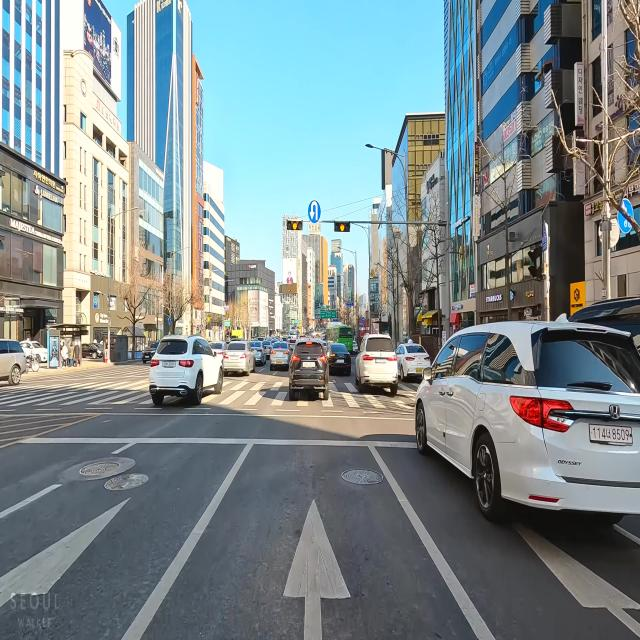Yellow Light: (292, 221, 297, 230), (340, 222, 345, 231)
